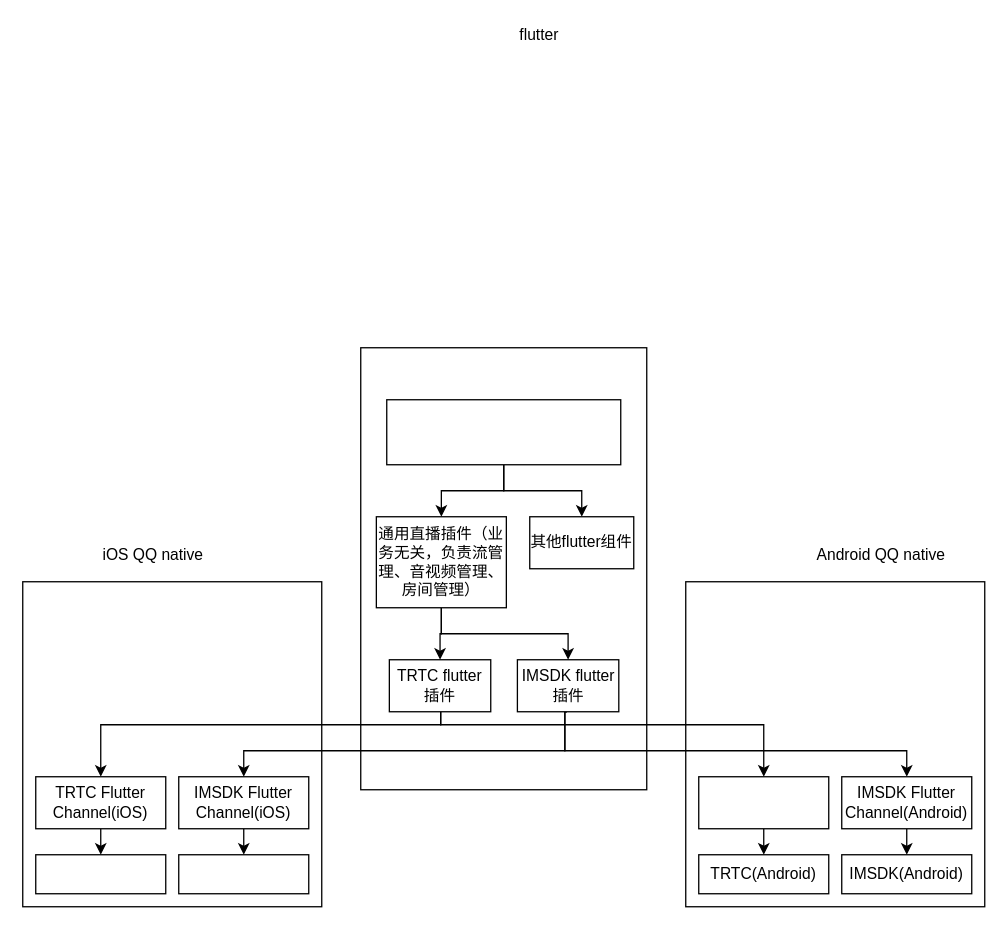
Image size: 1007x929. Some labels were removed from this diagram. Each missing label, with the centre of its shape:
IMSDK(iOS): the point at 243,873
TRTC Flutter Channel(Android): the point at 763,802
TRTC(iOS): the point at 100,873
小世界直播插件: the point at 503,431
